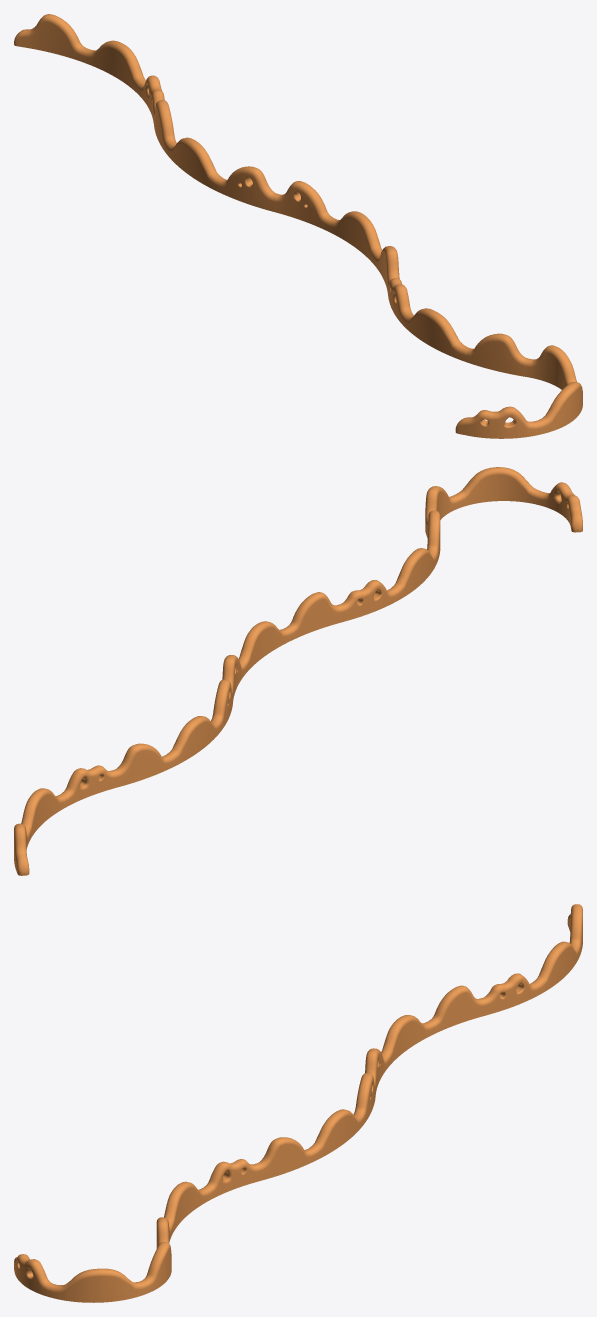
Rendered from long_wall.fbx.
3 renders of one model, top to bottom at view 1: azimuth 30°, elevation 25°; view 2: azimuth 150°, elevation 25°; view 3: azimuth 330°, elevation 25°, orthographic. The views are drawn at different scales.
Parts seen in each view (by area): view 1: wall_end_010; view 2: wall_end_010; view 3: wall_end_010.
Part boxes in pixels (x1,y1,x2,y2): wall_end_010: [14, 14, 582, 438]; wall_end_010: [14, 467, 582, 875]; wall_end_010: [14, 904, 582, 1302].
Size of the model in its own units: 1277 by 315 by 8804.
